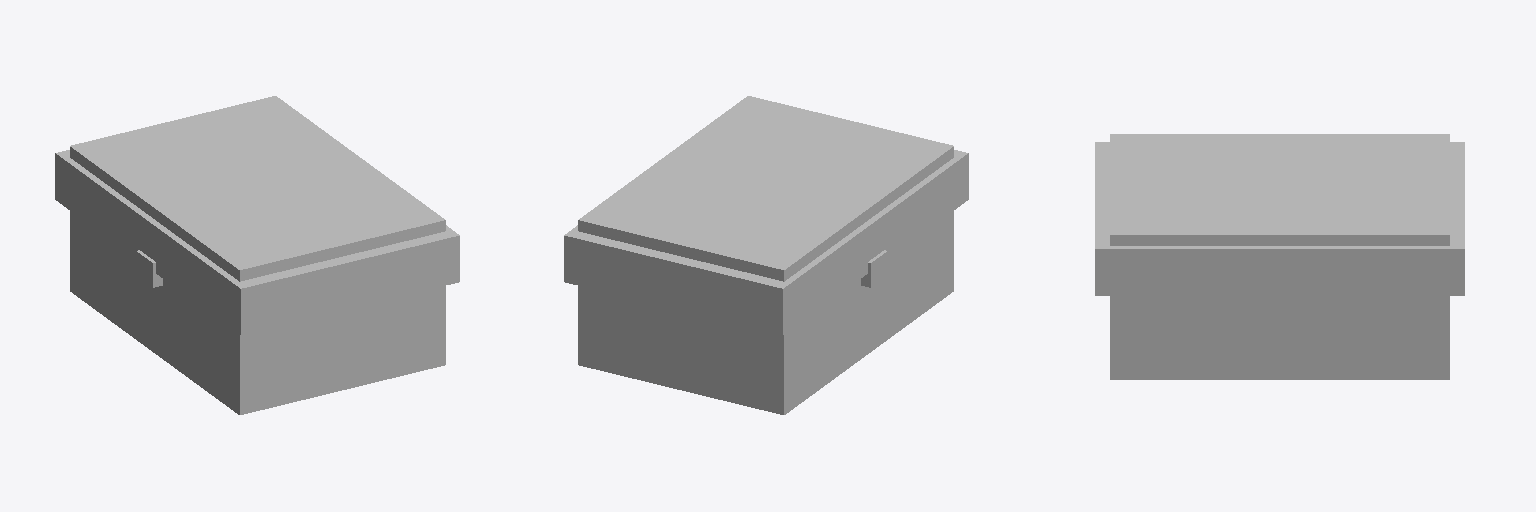
Rendered from chest.obj.
3 views of the same model, side by side, from view 1: azimuth 30°, elevation 25°; view 2: azimuth 150°, elevation 25°; view 3: azimuth 270°, elevation 25° (orthographic).
Parts seen in each view (by area): view 1: Cube, Cube.001, Cube.002; view 2: Cube, Cube.001, Cube.002; view 3: Cube, Cube.001.
Part boxes in pixels (left/top/right/bottom): Cube: left=70, top=96, right=445, bottom=414; Cube.001: left=55, top=150, right=459, bottom=335; Cube.002: left=136, top=250, right=162, bottom=287; Cube: left=578, top=96, right=953, bottom=414; Cube.001: left=564, top=150, right=968, bottom=335; Cube.002: left=861, top=250, right=887, bottom=287; Cube: left=1110, top=134, right=1449, bottom=379; Cube.001: left=1095, top=142, right=1464, bottom=295.
Bounding box in the file's own units: 2.16 × 1.34 × 3.11.